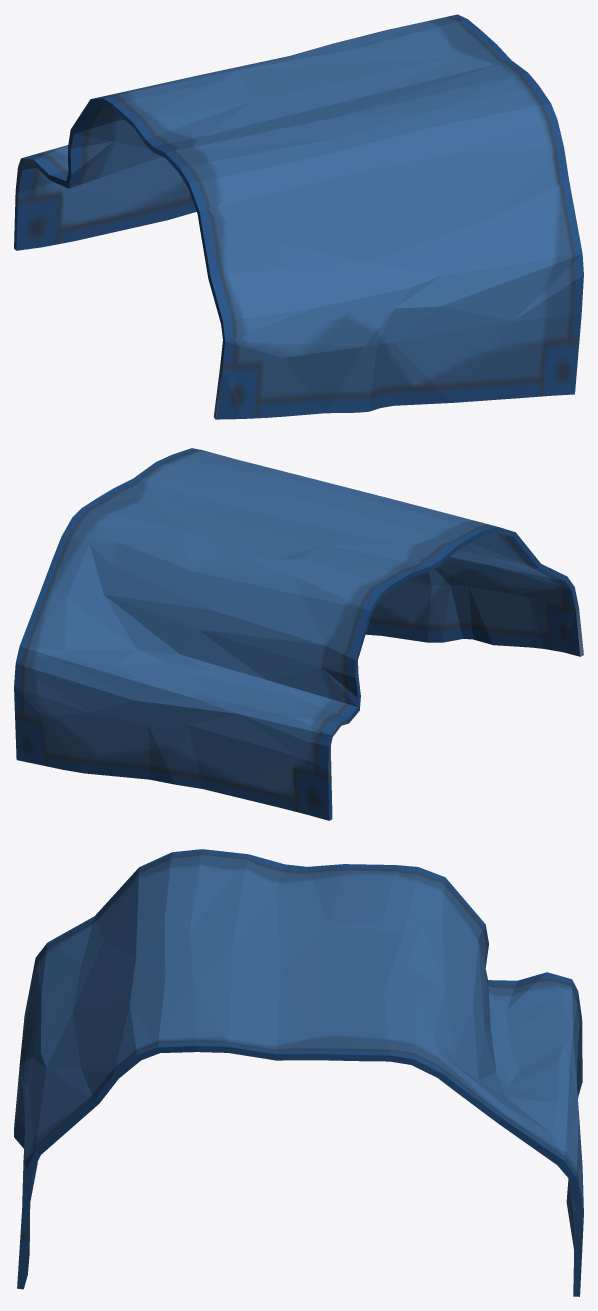
Rendered from SM_Prop_StorageShelf_Large_Pipe_02_Tarp.fbx.
3 views of the same model, one above another, from view 1: azimuth 30°, elevation 25°; view 2: azimuth 150°, elevation 25°; view 3: azimuth 270°, elevation 25° (orthographic). The views are drawn at different scales.
Visible parts, largest first — view 1: SM_Prop_StorageShelf_Large_Pipe_02_Tarp; view 2: SM_Prop_StorageShelf_Large_Pipe_02_Tarp; view 3: SM_Prop_StorageShelf_Large_Pipe_02_Tarp.
Boxes of the visible parts, <box> form: SM_Prop_StorageShelf_Large_Pipe_02_Tarp: <box>14,14,583,419</box>; SM_Prop_StorageShelf_Large_Pipe_02_Tarp: <box>14,448,583,820</box>; SM_Prop_StorageShelf_Large_Pipe_02_Tarp: <box>14,849,583,1296</box>.
Bounding box in the file's own units: 196 × 110 × 210.
